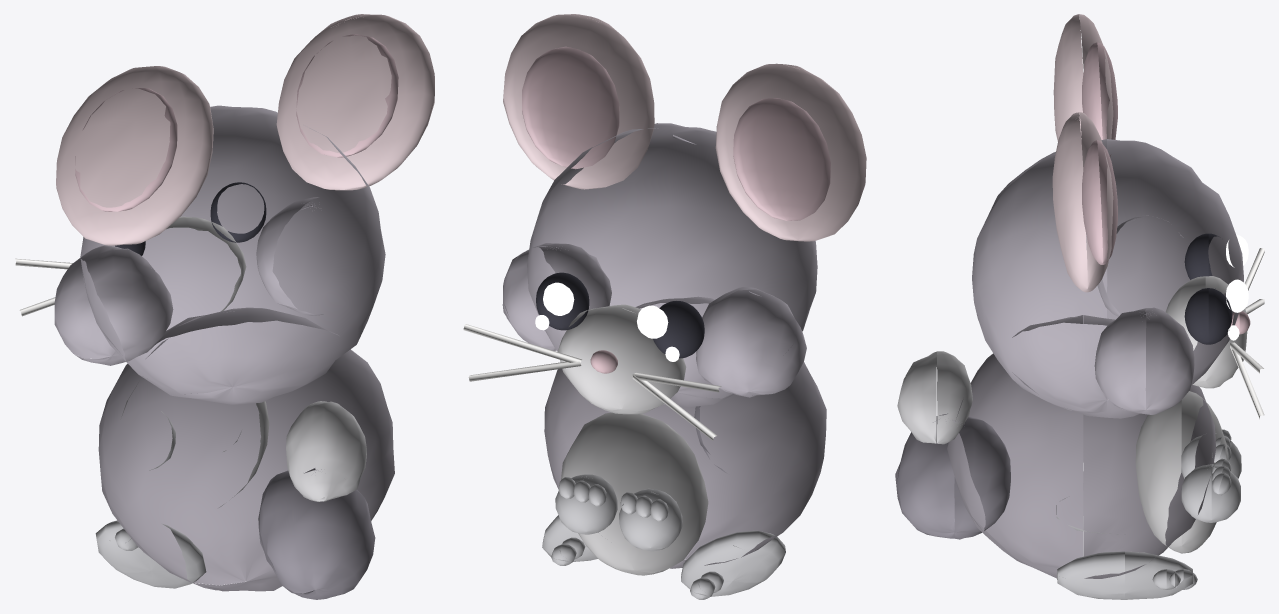
The model's file is pet_chinchilla_violet_baby.glb.
The picture shows the model from 3 angles, left to right: view 1: azimuth 30°, elevation 25°; view 2: azimuth 150°, elevation 25°; view 3: azimuth 270°, elevation 25°; orthographic projection. The views are drawn at different scales.
Visible parts, largest first — view 1: chinchilla; view 2: chinchilla; view 3: chinchilla.
Part boxes in pixels (x1,y1,x2,y2): chinchilla: [15, 14, 434, 599]; chinchilla: [463, 14, 866, 599]; chinchilla: [895, 14, 1264, 599].
Bounding box in the file's own units: 0.5757 × 0.7867 × 0.5261.
